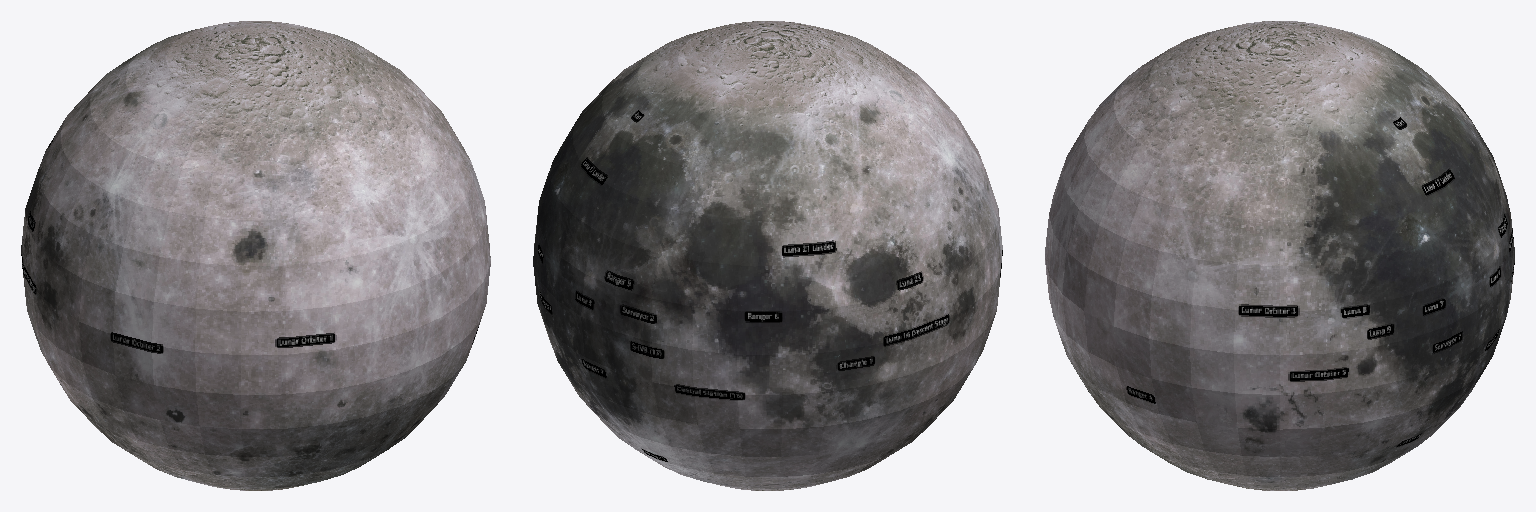
The picture shows the model from 3 angles: view 1: azimuth 30°, elevation 25°; view 2: azimuth 150°, elevation 25°; view 3: azimuth 270°, elevation 25°; orthographic projection.
Parts seen in each view (by area): view 1: Moon; view 2: Moon; view 3: Moon.
Part boxes in pixels (left/top/right/bottom): Moon: left=21, top=21, right=490, bottom=490; Moon: left=533, top=21, right=1002, bottom=490; Moon: left=1045, top=21, right=1514, bottom=490.
Bounding box in the file's own units: 191 × 190 × 191.
Materials: 1 (1 with a texture image).